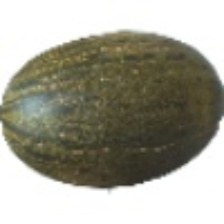honeydew: (8, 21, 177, 201)
